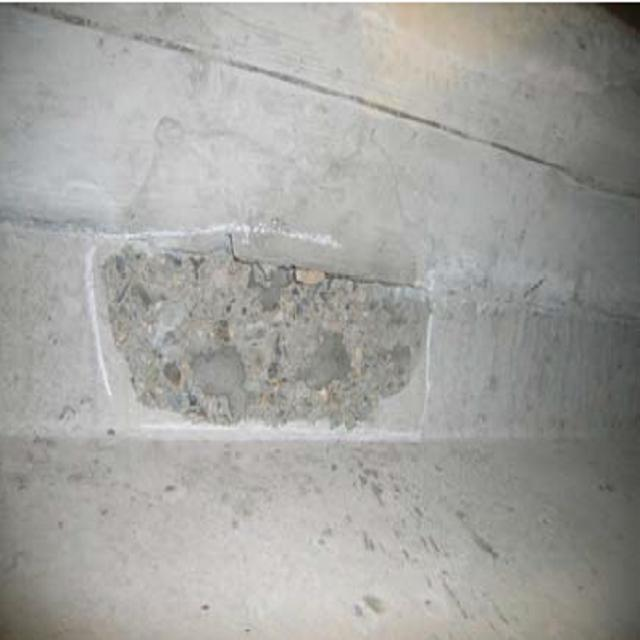spalling: (93, 220, 431, 439)
